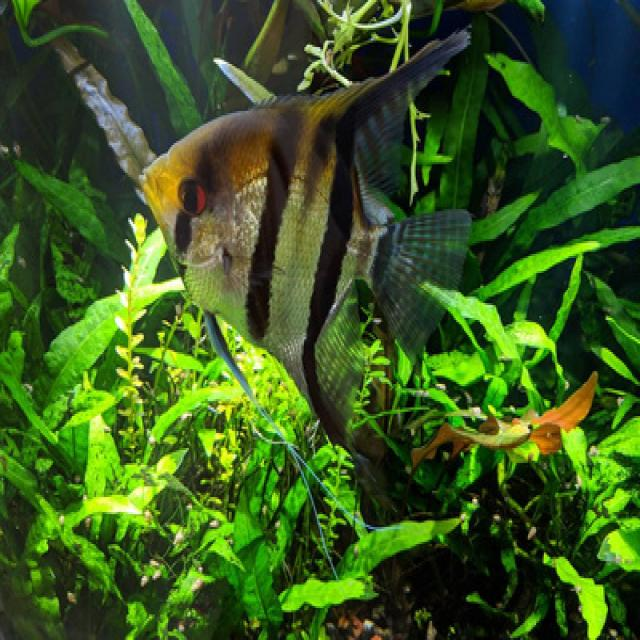AngelFish: (142, 34, 476, 442)
